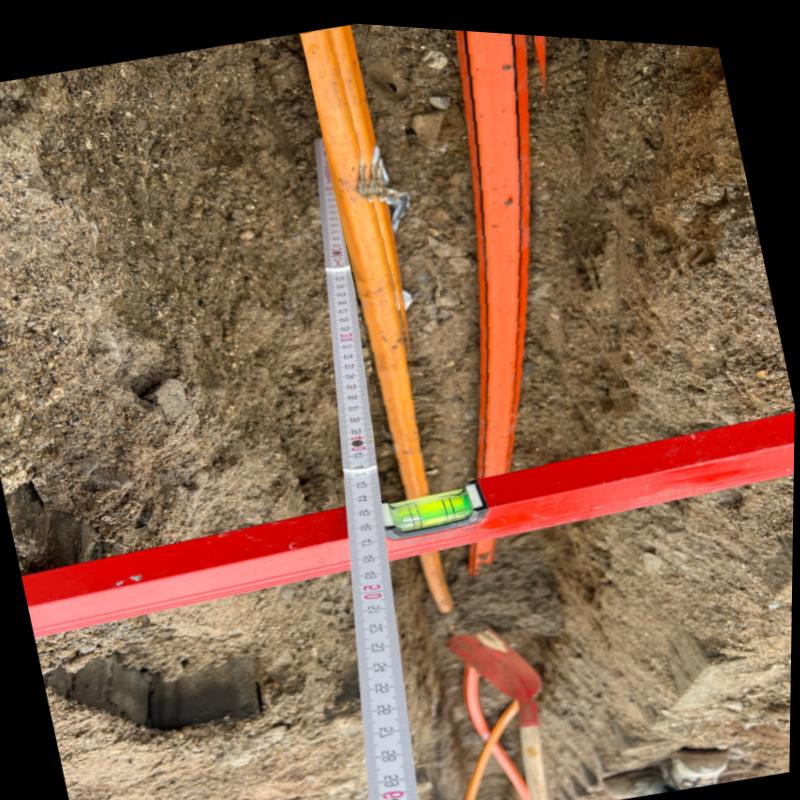Orang-Speednetrohrchen: (301, 23, 428, 492), (460, 24, 533, 471)
